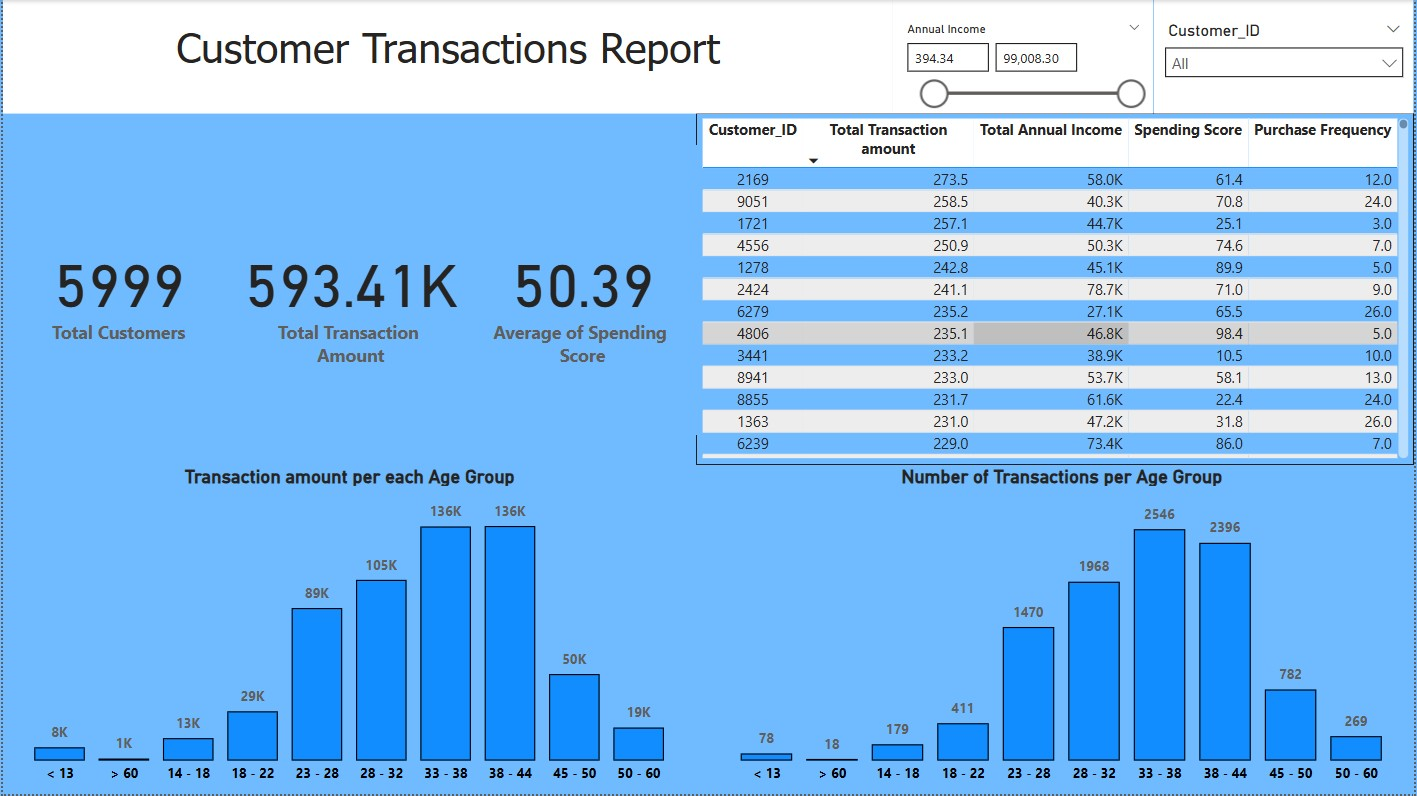

The dashboard page shown, as its layout file describes it:
{"tool":"powerbi","page":{"name":"Customer Transaction Report","canvas":[1280,720],"ordinal":0},"visuals":[{"type":"card","fields":{"Values":["Sum(unclean_customer_data.Avg_transaction_amt)"]},"box":[209.6,131.3,211.6,262.5],"z":0},{"type":"card","fields":{"Values":["CountNonNull(unclean_customer_data.Customer_ID)"]},"box":[0,131.3,209.6,262.5],"z":1000},{"type":"clusteredColumnChart","title":"Transaction amount per each Age Group","fields":{"Category":["unclean_customer_data.Age Groups"],"Y":["Sum(unclean_customer_data.Avg_transaction_amt)"]},"box":[0,421.2,628.8,298.1],"z":2000},{"type":"clusteredColumnChart","title":"Number of Transactions per Age Group","fields":{"Category":["unclean_customer_data.Age Groups"],"Y":["Sum(unclean_customer_data.Total_transactions)"]},"box":[640,421.2,640,298.1],"z":3000},{"type":"tableEx","fields":{"Values":["unclean_customer_data.Customer_ID","unclean_customer_data.Avg_transaction_amt","unclean_customer_data.Average_annual_income","unclean_customer_data.Avg_spending_score","unclean_customer_data.Avg_purchase_frequency"]},"box":[628.8,102.8,651.2,318.5],"z":4000},{"type":"card","fields":{"Values":["Avg(unclean_customer_data.Avg_spending_score)"]},"box":[421.2,131.3,207.6,262.5],"z":5000},{"type":"slicer","fields":{"Values":["unclean_customer_data.Customer_ID"]},"box":[1043.9,0,236.1,102.8],"z":6000},{"type":"textbox","box":[0,0,807.3,103.1],"z":7000},{"type":"slicer","fields":{"Values":["unclean_customer_data.Average_annual_income"]},"box":[807.3,0,236.4,103.1],"z":8000}]}

Visuals, with their boxes in screenshot pixels (x1, y1, x2, y2), scaled from the page's 1280x720 canvas onto the 1417x796 screenshot:
card - Sum(unclean_customer_data.Avg_transaction_amt): box(232, 145, 466, 435)
card - CountNonNull(unclean_customer_data.Customer_ID): box(0, 145, 232, 435)
"Transaction amount per each Age Group" clusteredColumnChart: box(0, 466, 696, 795)
"Number of Transactions per Age Group" clusteredColumnChart: box(708, 466, 1416, 795)
tableEx - unclean_customer_data.Customer_ID x unclean_customer_data.Avg_transaction_amt: box(696, 114, 1416, 466)
card - Avg(unclean_customer_data.Avg_spending_score): box(466, 145, 696, 435)
slicer - unclean_customer_data.Customer_ID: box(1156, 0, 1416, 114)
textbox: box(0, 0, 894, 114)
slicer - unclean_customer_data.Average_annual_income: box(894, 0, 1155, 114)
